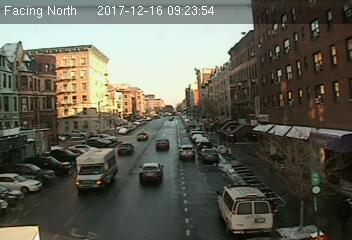car: (138, 162, 164, 182), (199, 148, 219, 164), (179, 144, 197, 159), (116, 142, 135, 155), (155, 138, 169, 149), (136, 131, 148, 141)
police: (217, 181, 275, 234)
truck: (74, 148, 117, 193)
